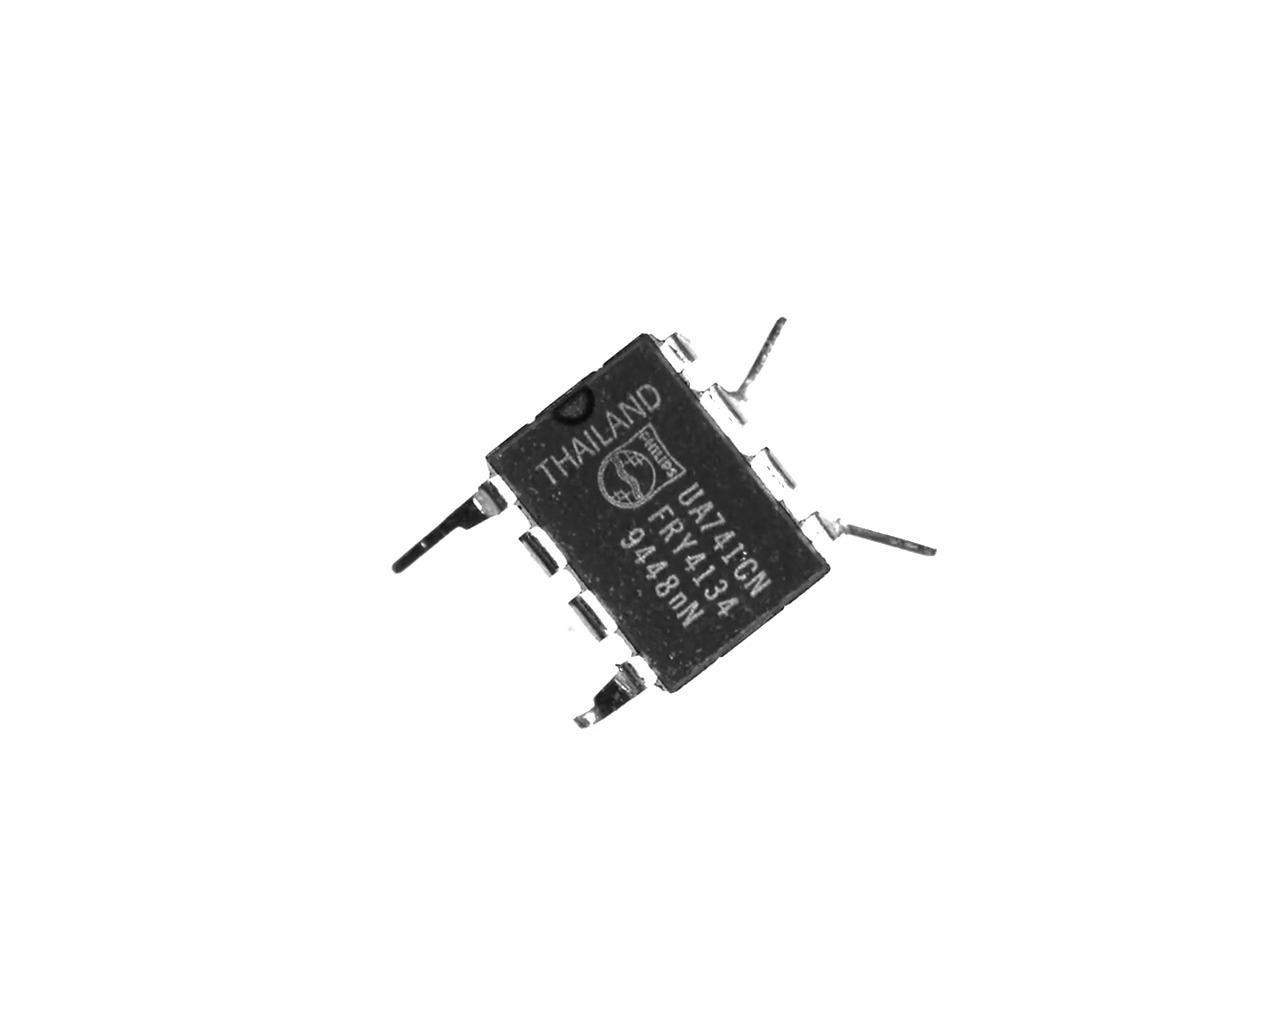Leg: (383, 473, 508, 576), (697, 315, 790, 438), (792, 509, 941, 561), (564, 654, 659, 732), (559, 588, 620, 645), (747, 437, 797, 502), (517, 528, 571, 582), (660, 327, 699, 377)
